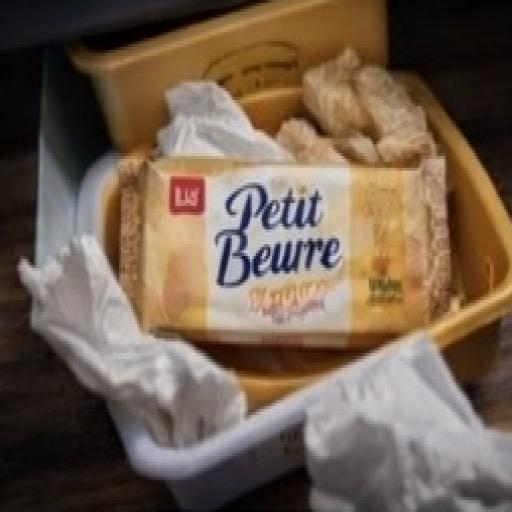petit-beurre: (86, 114, 492, 392)
